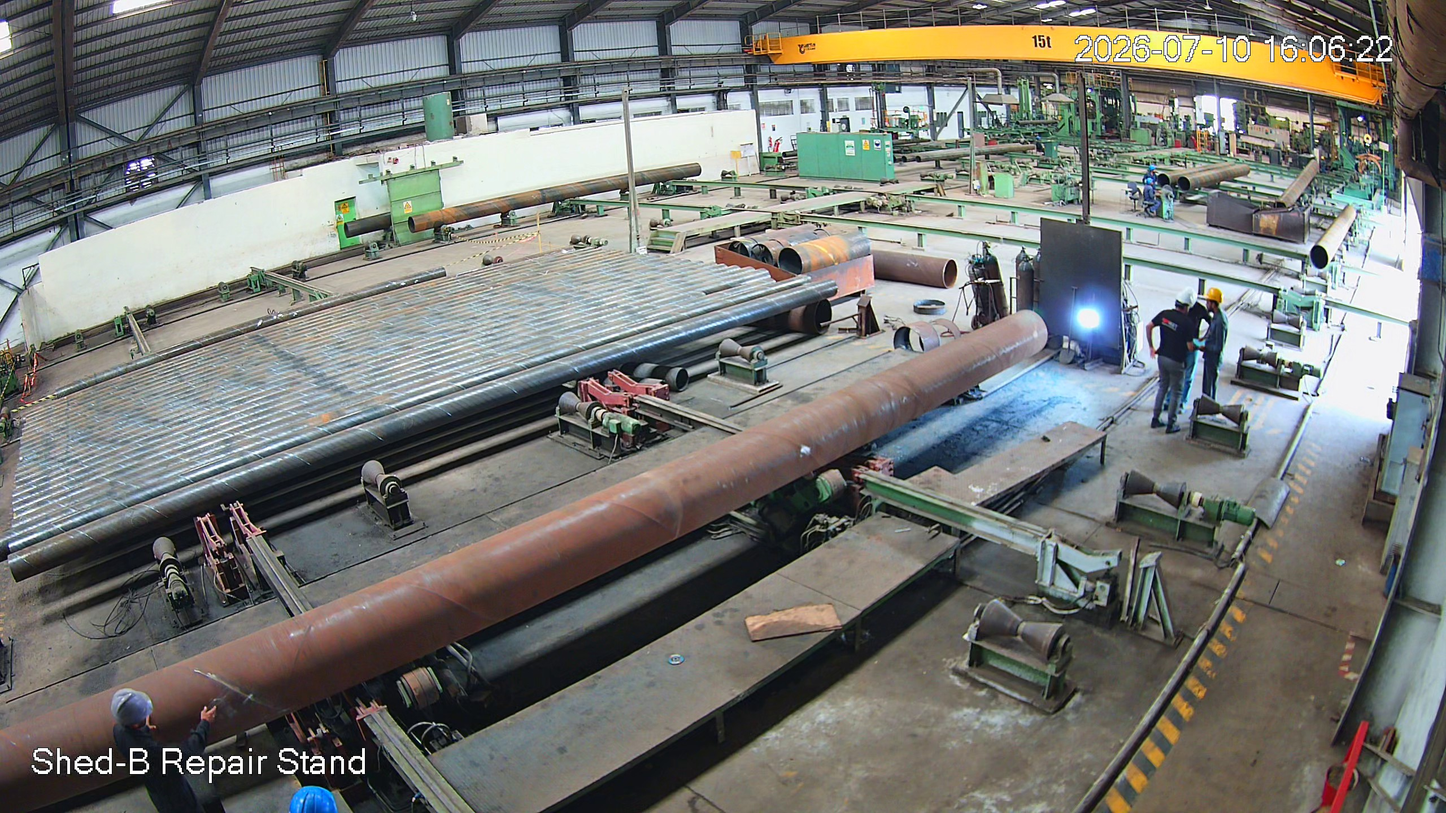Helmet: (103, 679, 169, 747), (1173, 287, 1200, 319), (1204, 284, 1230, 317)
Person: (93, 690, 227, 813), (1143, 291, 1195, 435), (1198, 287, 1234, 408)
